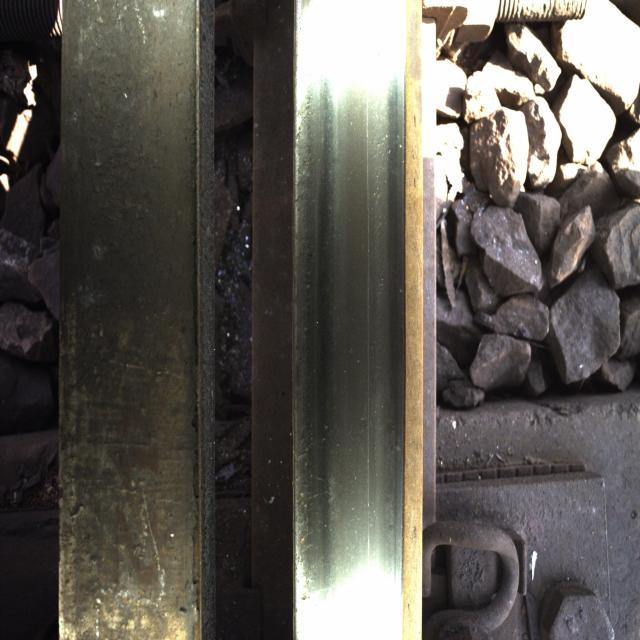break: (298, 52, 402, 582)
